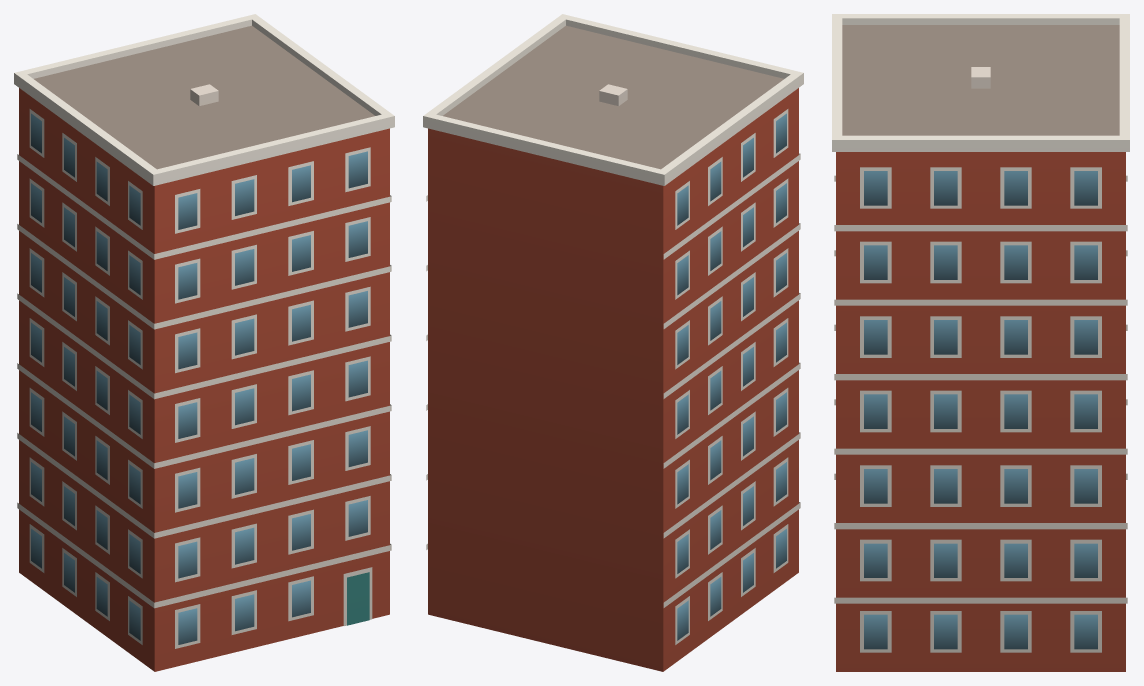
The model's file is sky5_far.glb.
3 views of the same model, side by side, from view 1: azimuth 30°, elevation 25°; view 2: azimuth 150°, elevation 25°; view 3: azimuth 270°, elevation 25° (orthographic). The views are drawn at different scales.
Visible parts, largest first — view 1: sky5_far; view 2: sky5_far; view 3: sky5_far.
Part boxes in pixels (x1,y1,x2,y2): sky5_far: (14, 14, 394, 671); sky5_far: (423, 14, 803, 671); sky5_far: (832, 14, 1129, 671).
Bounding box in the file's own units: 12.32 × 24.57 × 12.32.
1 material, 1 textured.
